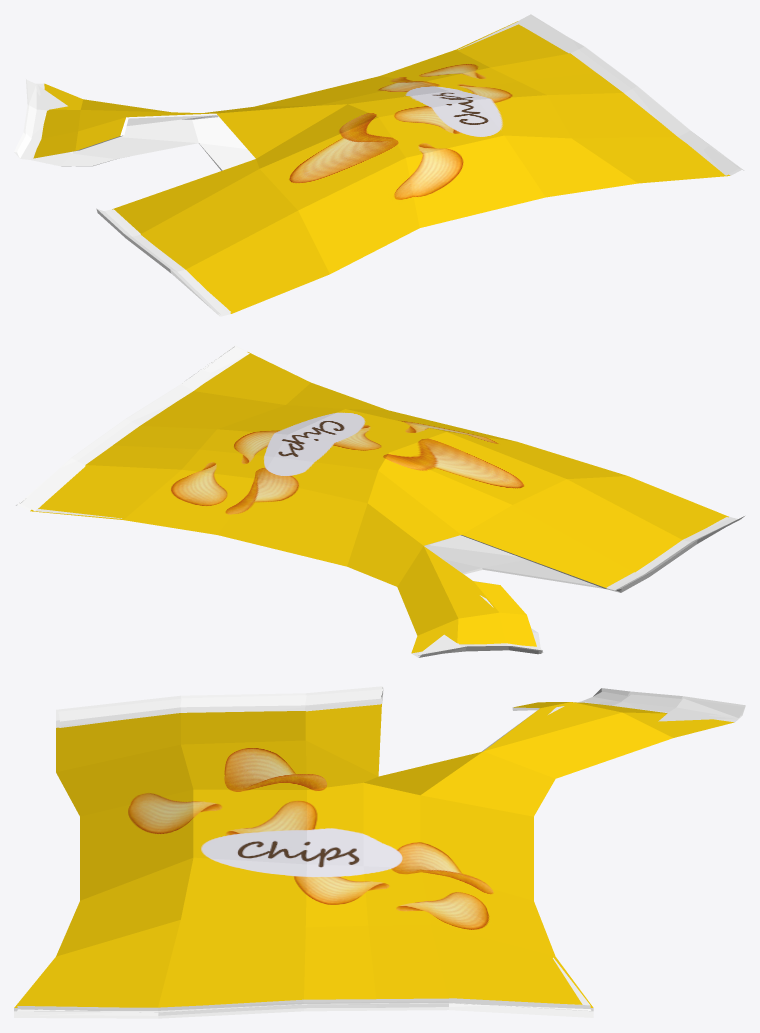
The model's file is chips03.gltf.
The picture shows the model from 3 angles, top to bottom: view 1: azimuth 30°, elevation 25°; view 2: azimuth 150°, elevation 25°; view 3: azimuth 270°, elevation 25°; orthographic projection. The views are drawn at different scales.
Visible parts, largest first — view 1: Cube; view 2: Cube; view 3: Cube.
Part boxes in pixels (x1,y1,x2,y2): Cube: (14, 14, 744, 316); Cube: (16, 345, 744, 657); Cube: (14, 686, 745, 1018).
Size of the model in its own units: 3.27 by 0.5117 by 2.93.
Materials: 2 (1 with a texture image).
